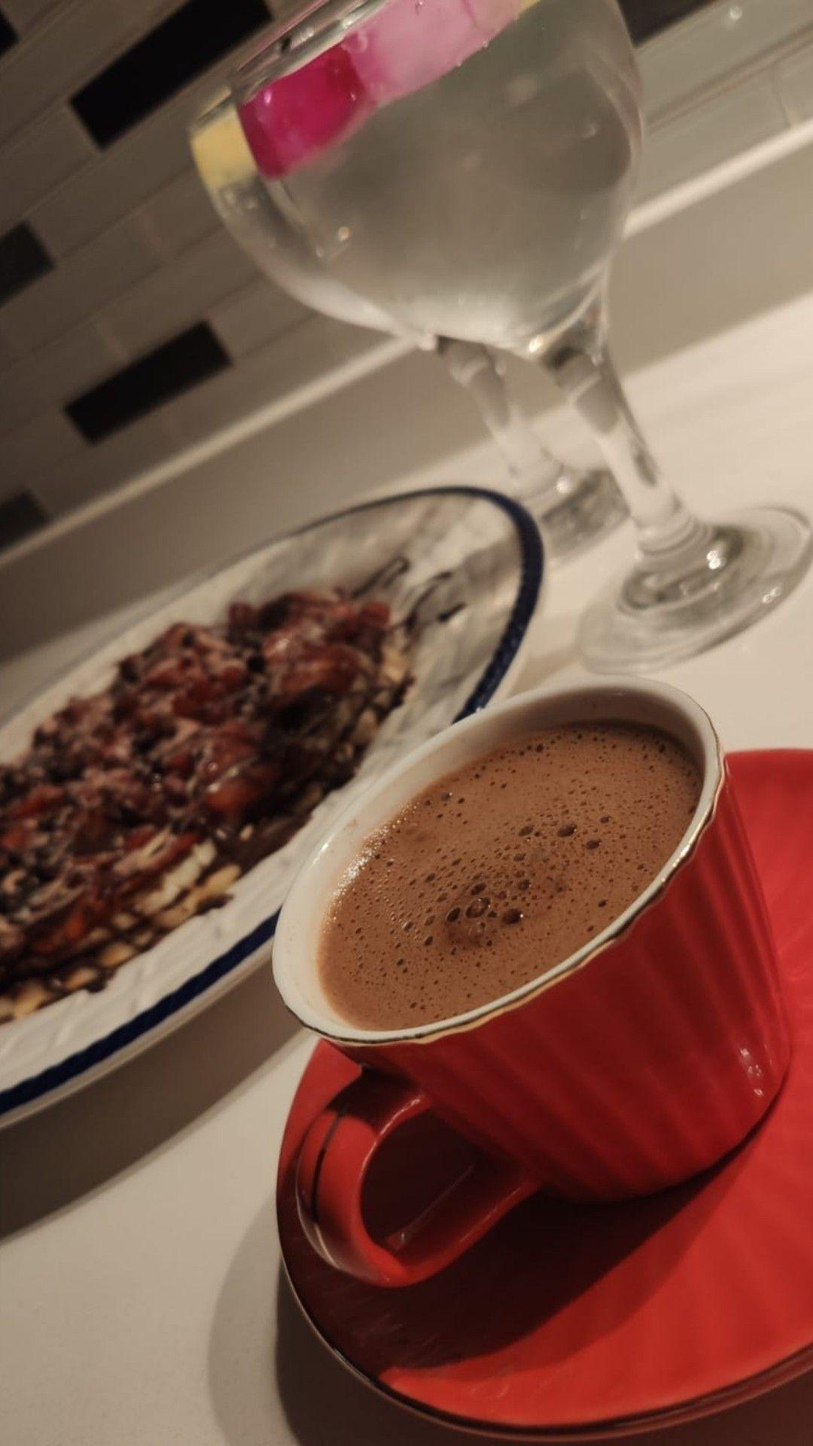cup-handle: (269, 676, 796, 1287)
glass-wine: (229, 1, 809, 670)
